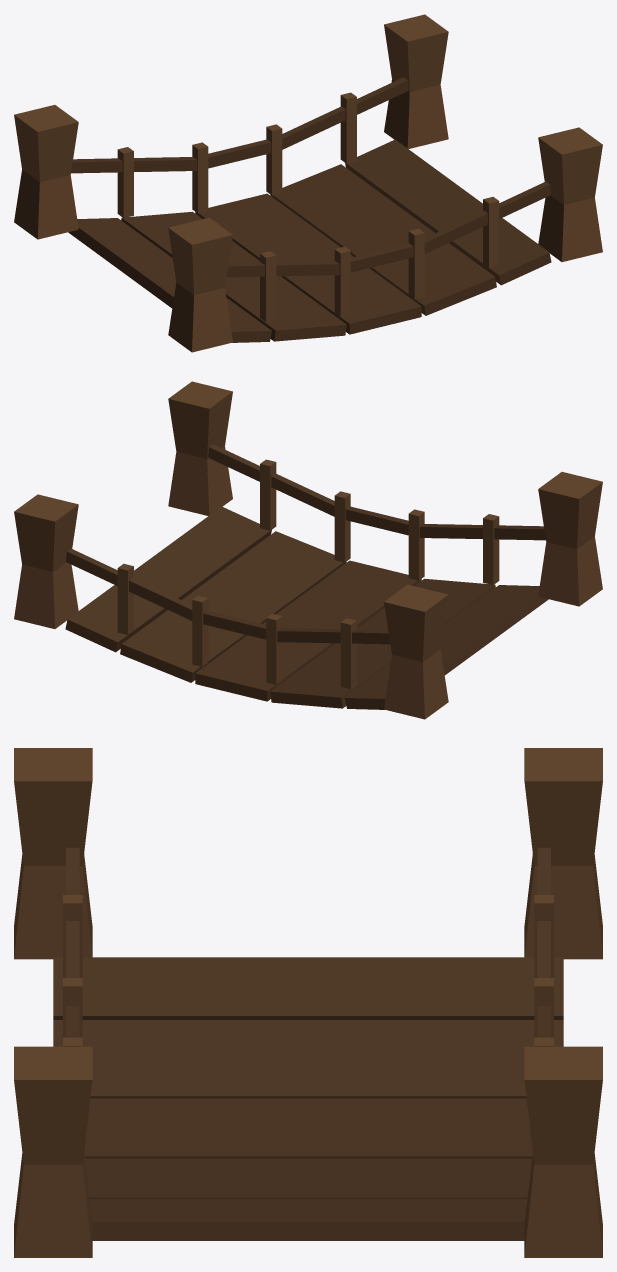
The model's file is Bridge_2_Dark_Brown.fbx.
3 renders of one model, top to bottom at view 1: azimuth 30°, elevation 25°; view 2: azimuth 150°, elevation 25°; view 3: azimuth 270°, elevation 25°, orthographic. The views are drawn at different scales.
Parts seen in each view (by area): view 1: Bridge_2_Dark_Brown_Part_2, Bridge_2_Dark_Brown_Part_4, Bridge_2_Dark_Brown_Part_3, Bridge_2_Dark_Brown_Part_1; view 2: Bridge_2_Dark_Brown_Part_2, Bridge_2_Dark_Brown_Part_3, Bridge_2_Dark_Brown_Part_4, Bridge_2_Dark_Brown_Part_1; view 3: Bridge_2_Dark_Brown_Part_1, Bridge_2_Dark_Brown_Part_2, Bridge_2_Dark_Brown_Part_4, Bridge_2_Dark_Brown_Part_3.
Boxes of the visible parts, x1,y1,x2,y2 form: Bridge_2_Dark_Brown_Part_2: (231, 139, 551, 325); Bridge_2_Dark_Brown_Part_4: (168, 127, 602, 352); Bridge_2_Dark_Brown_Part_3: (14, 14, 448, 239); Bridge_2_Dark_Brown_Part_1: (68, 202, 385, 342); Bridge_2_Dark_Brown_Part_2: (65, 506, 385, 692); Bridge_2_Dark_Brown_Part_3: (14, 494, 448, 719); Bridge_2_Dark_Brown_Part_4: (168, 381, 602, 606); Bridge_2_Dark_Brown_Part_1: (231, 569, 548, 709); Bridge_2_Dark_Brown_Part_1: (53, 957, 563, 1127); Bridge_2_Dark_Brown_Part_2: (84, 1127, 532, 1240); Bridge_2_Dark_Brown_Part_4: (14, 748, 92, 1257); Bridge_2_Dark_Brown_Part_3: (524, 748, 602, 1257).
Size of the model in its own units: 400 by 130 by 300.
